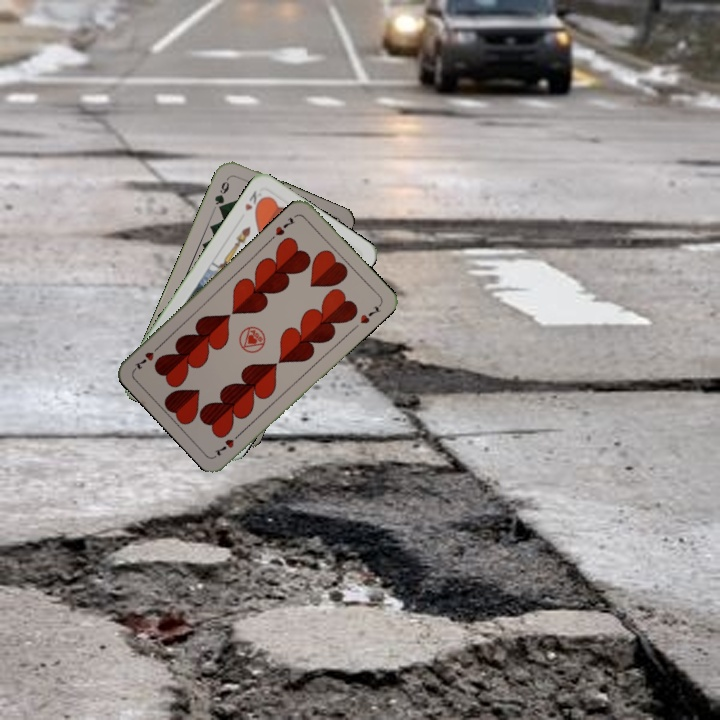G9: (210, 174, 232, 213)
H7: (210, 428, 244, 458), (271, 213, 297, 238)
HK: (241, 186, 267, 215)
